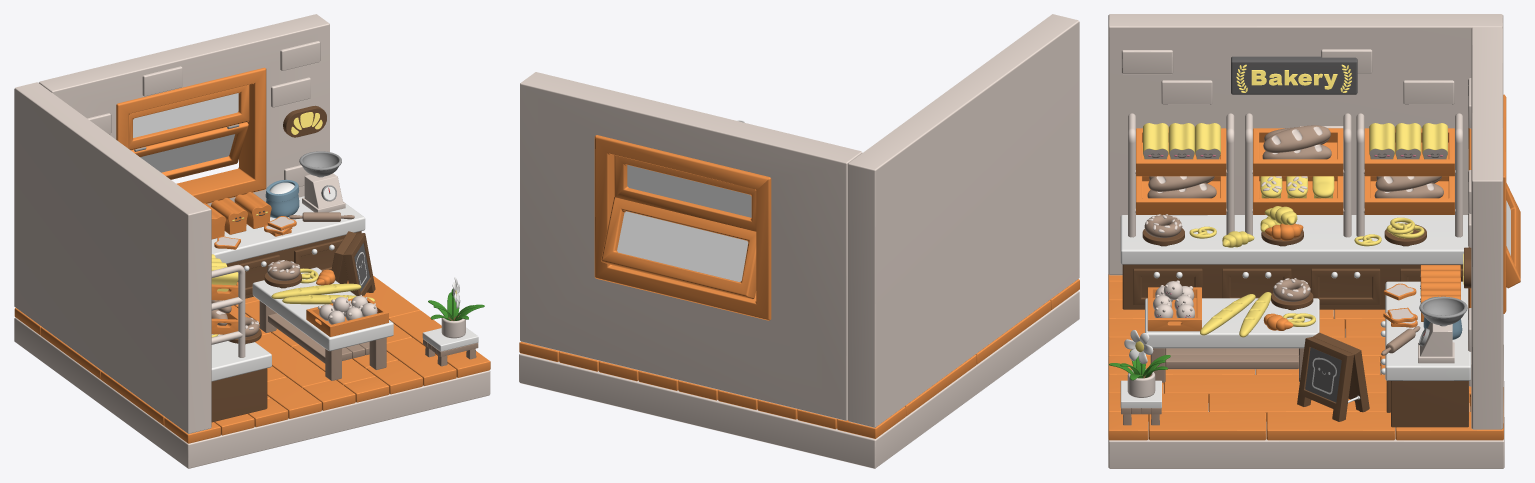
File: Room_1.glb
3 views of the same model, side by side, from view 1: azimuth 30°, elevation 25°; view 2: azimuth 150°, elevation 25°; view 3: azimuth 270°, elevation 25° (orthographic). The views are drawn at different scales.
Parts seen in each view (by area): view 1: Room_1_Wall_1, Room_1_Wall_2, Room_1_Floor_2, Room_1_Window_1, Room_1_Floor_1, Room_1_Cabinet_2, Room_1_Table_1, Room_1_Cabinet_1, Room_1_Scales_1, Room_1_Shelf_1, Room_1_Bakery_Sign_2, Room_1_Chair_1 (+10 smaller); view 2: Room_1_Wall_1, Room_1_Wall_2, Room_1_Window_1, Room_1_Floor_1, Room_1_Floor_2; view 3: Room_1_Wall_1, Room_1_Floor_2, Room_1_Cabinet_1, Room_1_Wall_2, Room_1_Floor_1, Room_1_Table_1, Room_1_Cabinet_2, Room_1_Shelf_2, Room_1_Shelf_3, Room_1_Shelf_1, Room_1_Bakery_Sign_1, Room_1_Bakery_Sign_2 (+29 smaller).
Part boxes in pixels (x1,y1,x2,y2): Room_1_Wall_1: [14, 82, 211, 433]; Room_1_Wall_2: [39, 14, 329, 206]; Room_1_Floor_2: [14, 275, 490, 443]; Room_1_Window_1: [116, 67, 266, 203]; Room_1_Floor_1: [14, 317, 490, 468]; Room_1_Cabinet_2: [211, 196, 365, 298]; Room_1_Table_1: [252, 267, 393, 380]; Room_1_Cabinet_1: [211, 334, 271, 422]; Room_1_Scales_1: [299, 151, 345, 212]; Room_1_Shelf_1: [211, 264, 245, 357]; Room_1_Bakery_Sign_2: [331, 231, 375, 295]; Room_1_Chair_1: [422, 327, 478, 366]; Room_1_Wall_1: [847, 14, 1079, 427]; Room_1_Wall_2: [520, 72, 862, 420]; Room_1_Window_1: [594, 135, 771, 320]; Room_1_Floor_1: [519, 290, 1079, 468]; Room_1_Floor_2: [519, 279, 1079, 438]; Room_1_Wall_1: [1108, 14, 1503, 275]; Room_1_Floor_2: [1108, 274, 1503, 440]; Room_1_Cabinet_1: [1120, 215, 1468, 309]; Room_1_Wall_2: [1468, 27, 1503, 429]; Room_1_Floor_1: [1108, 310, 1504, 468]; Room_1_Table_1: [1145, 298, 1319, 382]; Room_1_Cabinet_2: [1380, 281, 1470, 427]; Room_1_Shelf_2: [1245, 113, 1351, 237]; Room_1_Shelf_3: [1356, 113, 1462, 237]; Room_1_Shelf_1: [1128, 113, 1234, 237]; Room_1_Bakery_Sign_1: [1231, 56, 1357, 94]; Room_1_Bakery_Sign_2: [1297, 332, 1369, 421].
Bounding box in the file's own units: 5.07 × 4.02 × 5.2.
3 materials, 2 textured.
